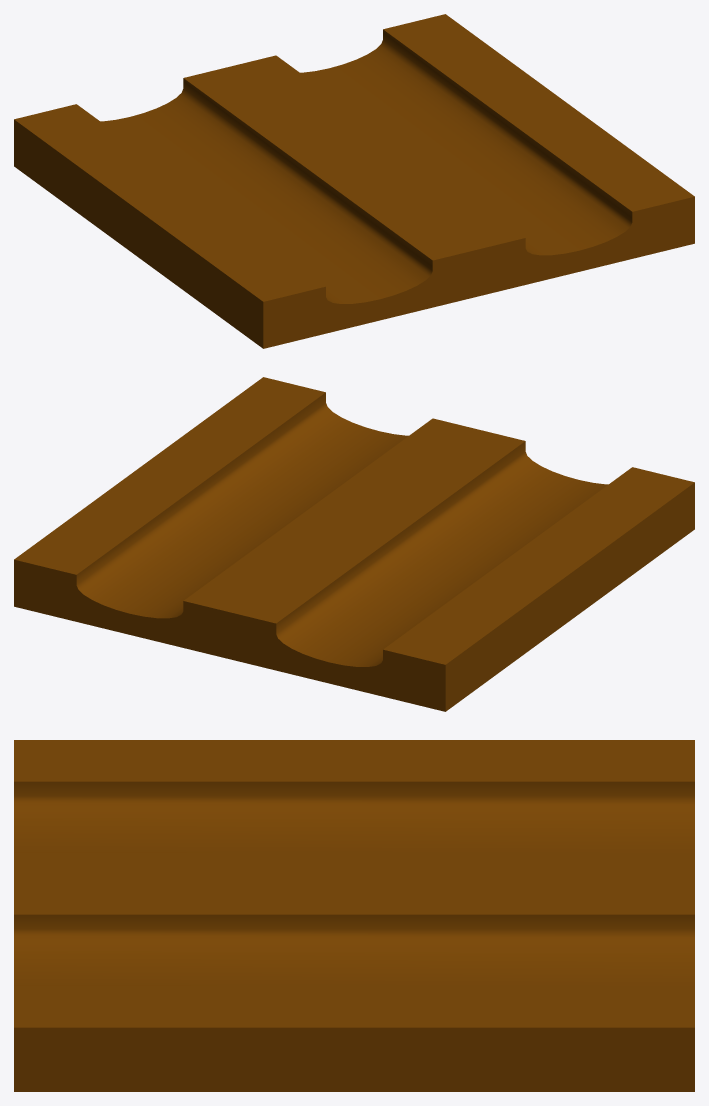
The model's file is Ferme_construct.fbx.
The picture shows the model from 3 angles, top to bottom: view 1: azimuth 30°, elevation 25°; view 2: azimuth 150°, elevation 25°; view 3: azimuth 270°, elevation 25°; orthographic projection. The views are drawn at different scales.
Parts seen in each view (by area): view 1: building_door_double_19; view 2: building_door_double_19; view 3: building_door_double_19.
Boxes of the visible parts, bbox=[...] form: building_door_double_19: bbox=[14, 14, 694, 348]; building_door_double_19: bbox=[14, 377, 694, 711]; building_door_double_19: bbox=[14, 740, 694, 1091].
Bounding box in the file's own units: 28.8 × 3 × 28.83.
